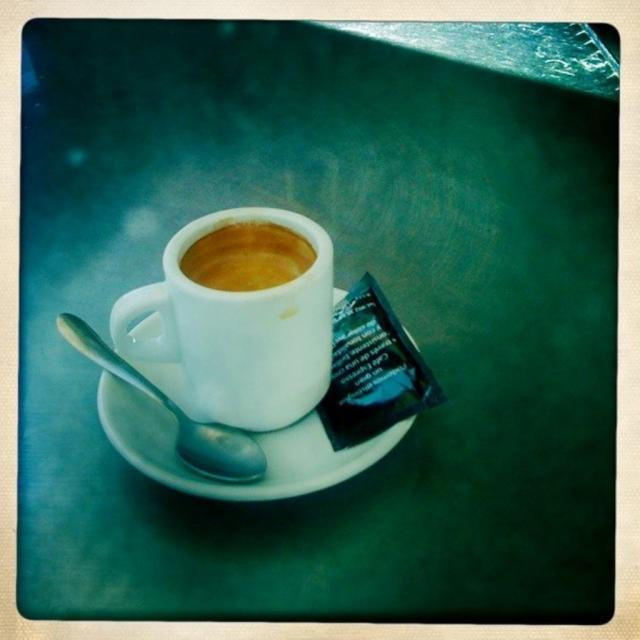ceramic plate: (63, 216, 453, 538)
